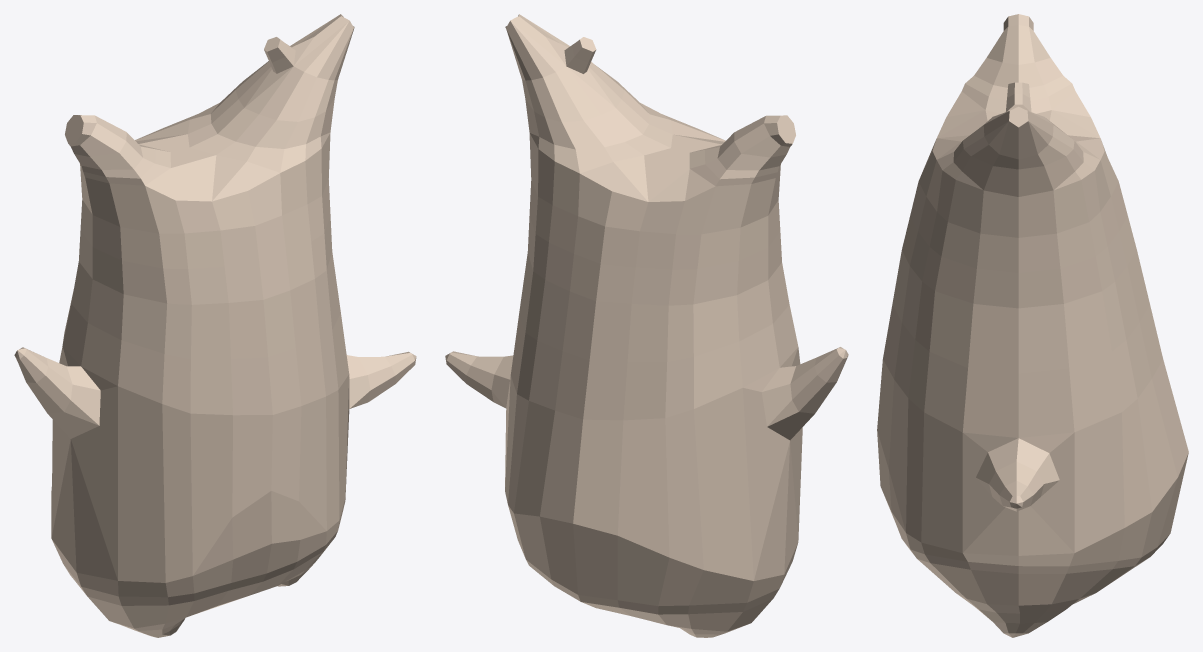
File: frame_0136.obj
3 renders of one model, left to right at view 1: azimuth 30°, elevation 25°; view 2: azimuth 150°, elevation 25°; view 3: azimuth 270°, elevation 25°, orthographic.
Parts seen in each view (by area): view 1: korok; view 2: korok; view 3: korok.
Boxes of the visible parts, x1,y1,x2,y2 form: korok: (14, 14, 416, 637); korok: (445, 14, 848, 637); korok: (877, 14, 1188, 637).
Size of the model in its own units: 1.6 by 2.19 by 1.07.
